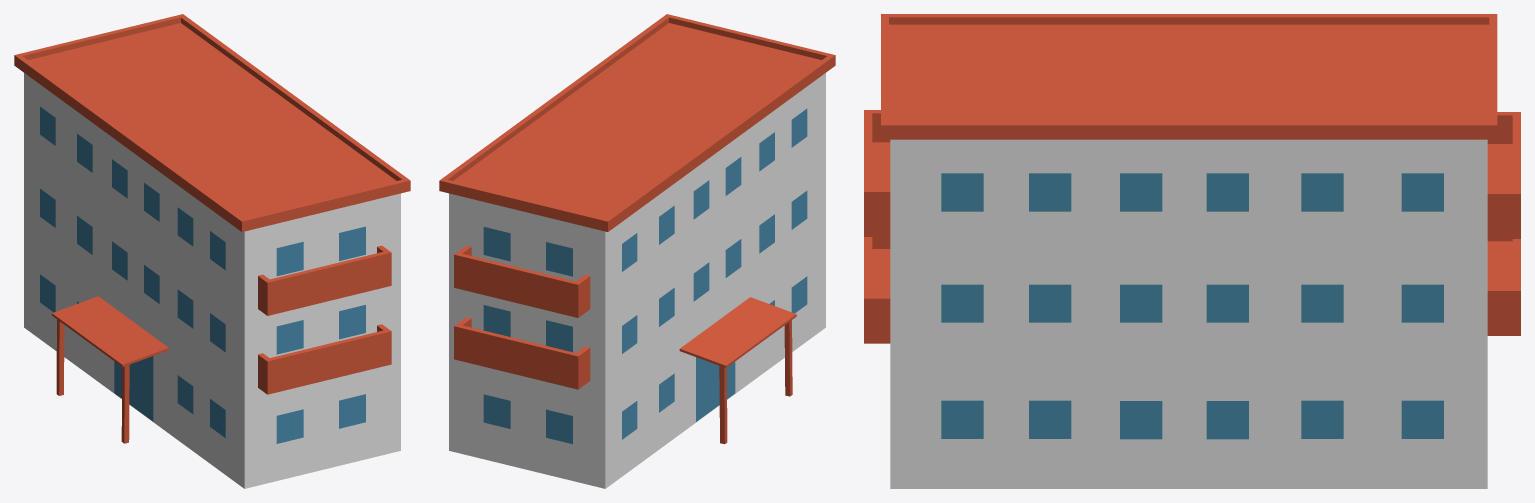
The model's file is building_red.glb.
3 renders of one model, left to right at view 1: azimuth 30°, elevation 25°; view 2: azimuth 150°, elevation 25°; view 3: azimuth 270°, elevation 25°, orthographic. The views are drawn at different scales.
Visible parts, largest first — view 1: building; view 2: building; view 3: building.
Boxes of the visible parts, x1=… form: building: x1=14, y1=14, x2=410, y2=488; building: x1=439, y1=14, x2=835, y2=488; building: x1=864, y1=14, x2=1520, y2=488.
Bounding box in the file's own units: 7.87 × 9.79 × 15.82.
Materials: 1 (1 with a texture image).
